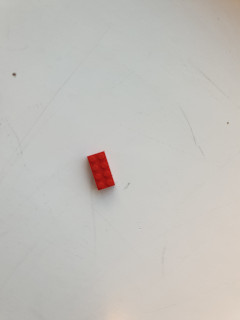2x4 red: (84, 150, 120, 192)
